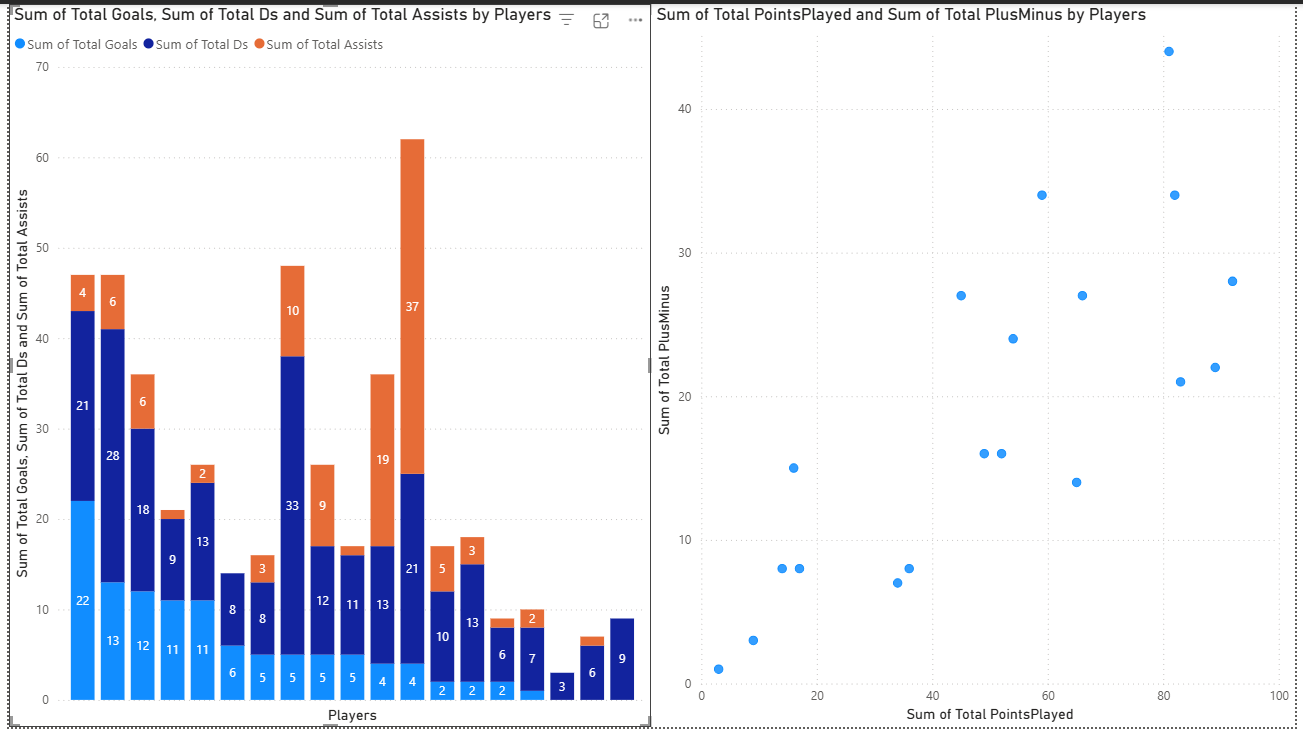

The page's visual inventory and layout, read from the dashboard file:
{"tool":"powerbi","page":{"name":"Page 1","canvas":[1280,720],"ordinal":0},"visuals":[{"type":"columnChart","fields":{"Category":["Append1.Players"],"Y":["Sum(Append1.Total Goals)","Sum(Append1.Total Ds)","Sum(Append1.Total Assists)"]},"box":[0,0,639.4,720.3],"z":0},{"type":"scatterChart","fields":{"Category":["Append1.Players"],"X":["Sum(Append1.Total PointsPlayed)"],"Y":["Sum(Append1.Total PlusMinus)"]},"box":[639.4,0,639.4,720.3],"z":1000}]}

Visuals, with their boxes in screenshot pixels (x1, y1, x2, y2), scaled from the page's 1280x720 canvas onto the 1303x734 screenshot:
columnChart - Append1.Players x Sum(Append1.Total Goals): [x1=0, y1=0, x2=651, y2=733]
scatterChart - Append1.Players x Sum(Append1.Total PointsPlayed): [x1=651, y1=0, x2=1302, y2=733]
